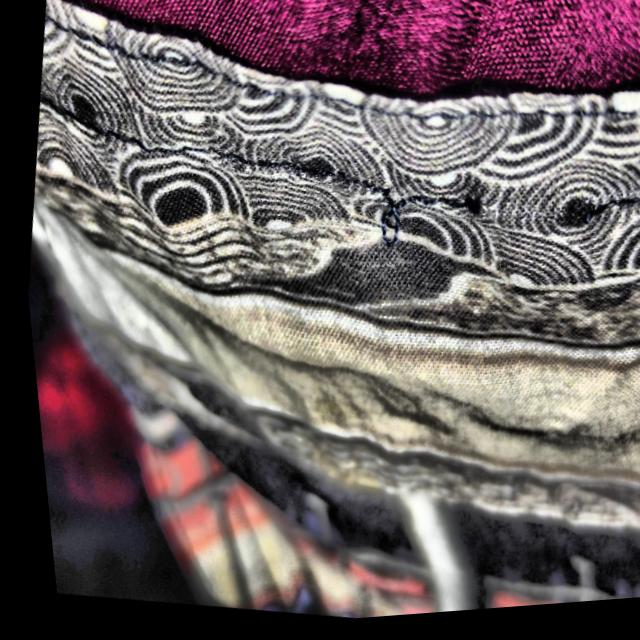Stitch: (328, 161, 496, 277), (445, 165, 622, 265)
